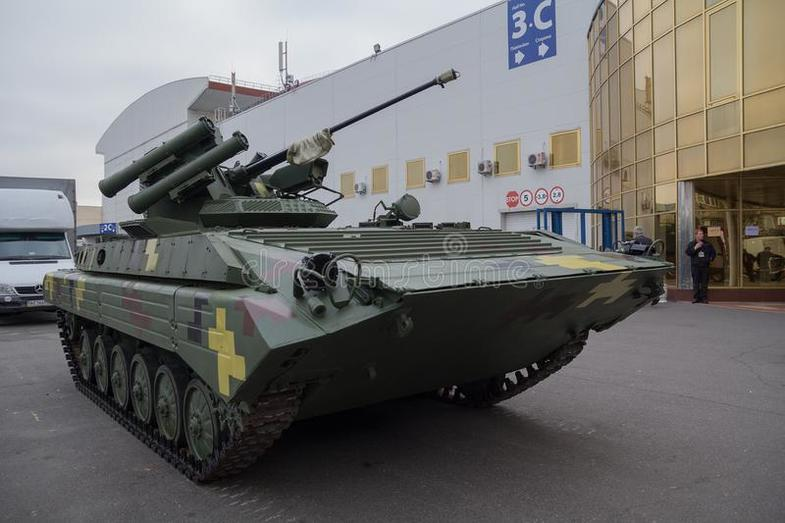bmp: (54, 184, 672, 476)
